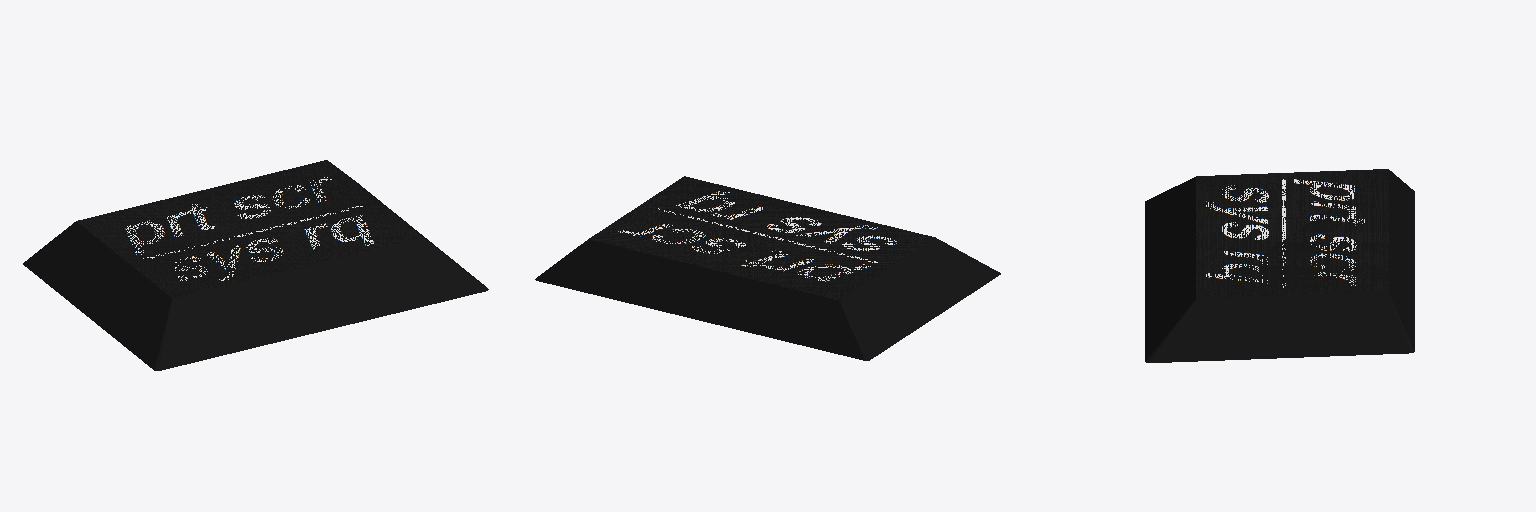
3 renders of one model, left to right at view 1: azimuth 30°, elevation 25°; view 2: azimuth 150°, elevation 25°; view 3: azimuth 270°, elevation 25°, orthographic.
Parts seen in each view (by area): view 1: Group97/mesh89/mesh89-geometry#mesh89-geometry; view 2: Group97/mesh89/mesh89-geometry#mesh89-geometry; view 3: Group97/mesh89/mesh89-geometry#mesh89-geometry.
Part boxes in pixels (x1,y1,x2,y2): Group97/mesh89/mesh89-geometry#mesh89-geometry: (23,160,488,370); Group97/mesh89/mesh89-geometry#mesh89-geometry: (535,176,1000,360); Group97/mesh89/mesh89-geometry#mesh89-geometry: (1145,169,1414,362).
Bounding box in the file's own units: 0.0754 × 0.0111 × 0.0525.
Materials: 2 (1 with a texture image).